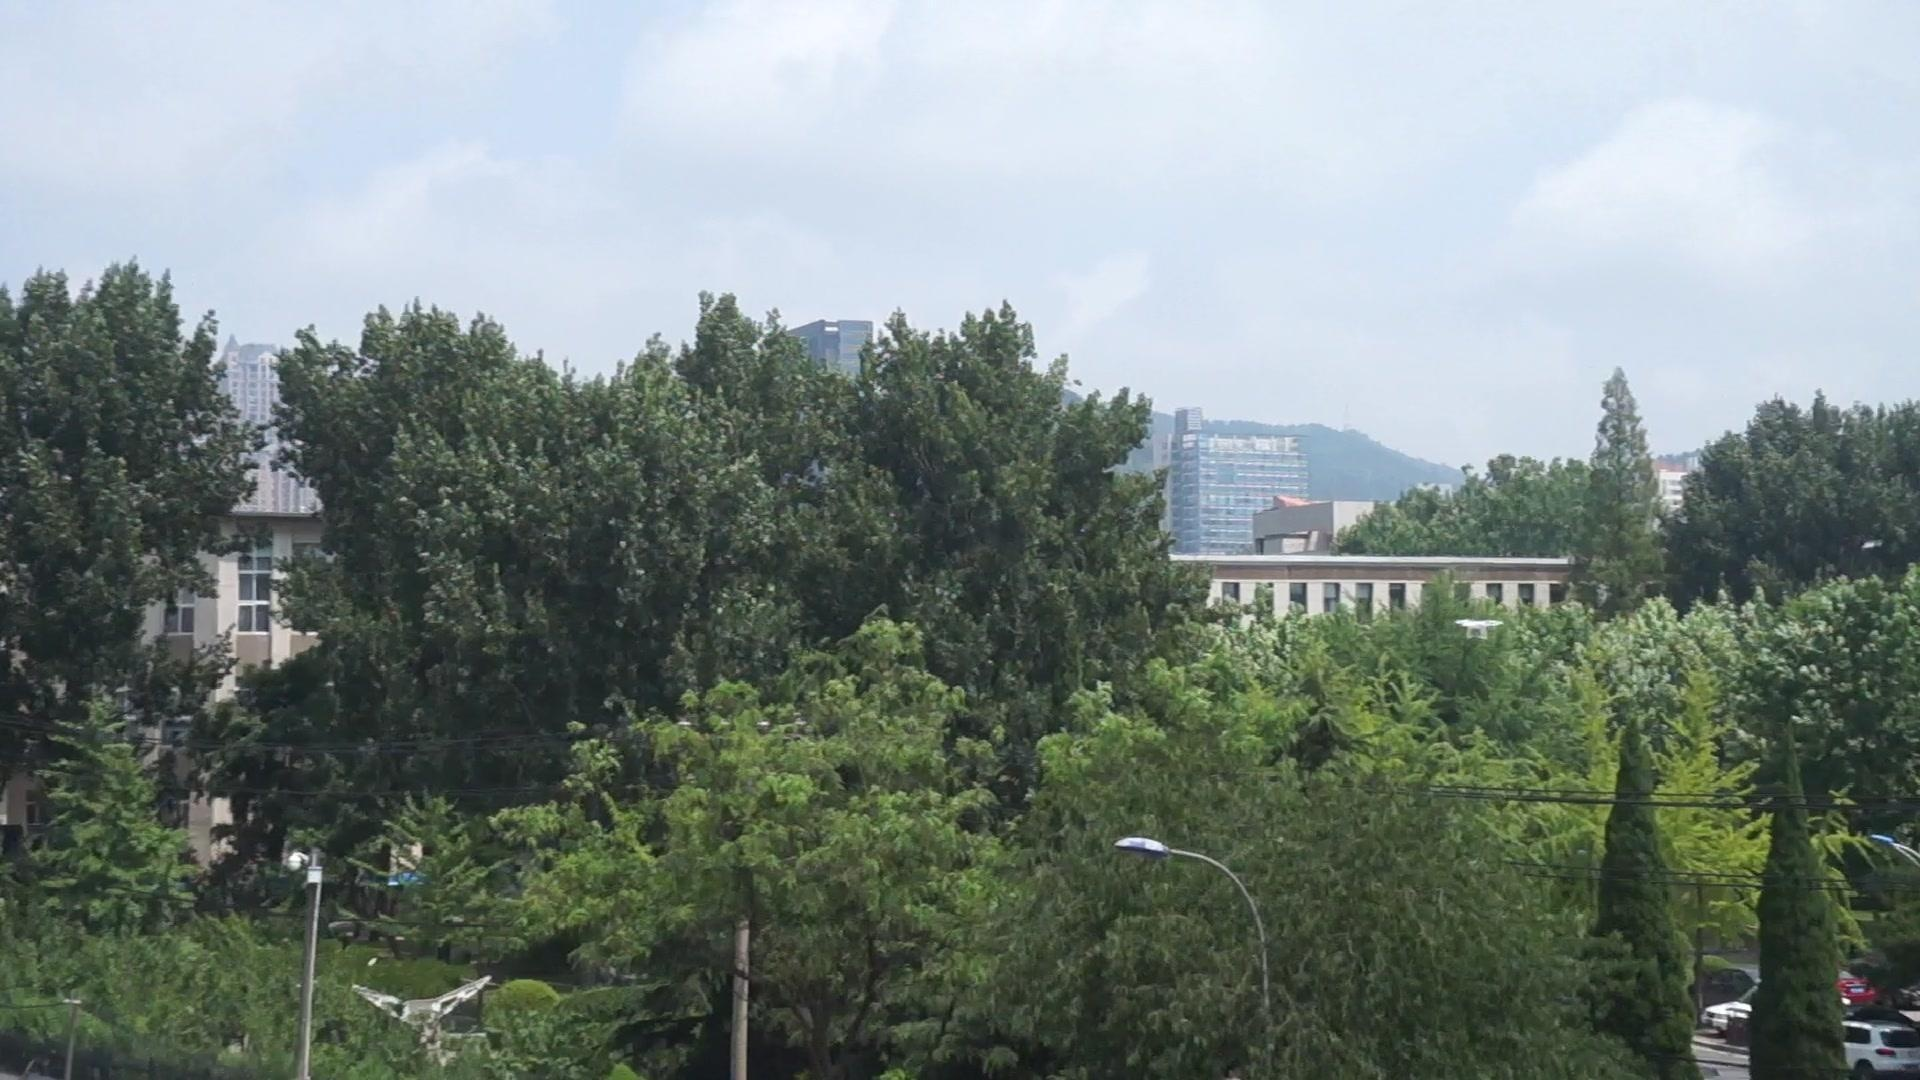UAV: (1455, 620, 1505, 640)
